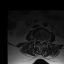CCS_normal: (40, 38, 42, 46)
LFS_normal: (44, 38, 46, 44)
LLS_stenosis: (42, 38, 44, 44)
RFS_normal: (36, 36, 38, 43)
RLS_normal: (38, 37, 40, 44)
